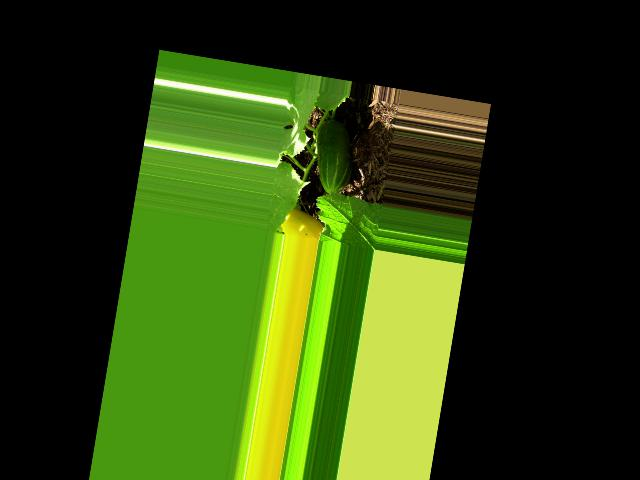cucumber: (308, 116, 360, 196)
